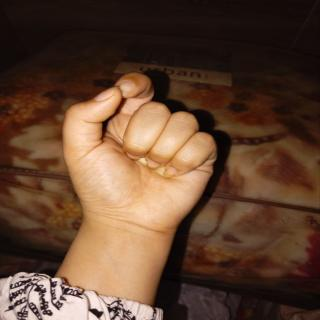FAA: (57, 67, 234, 256)
